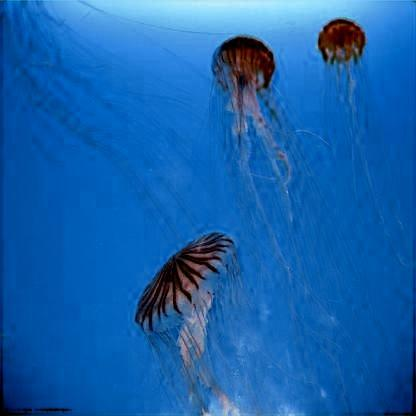Moon: (132, 233, 252, 413), (210, 34, 296, 208), (318, 20, 363, 109)
